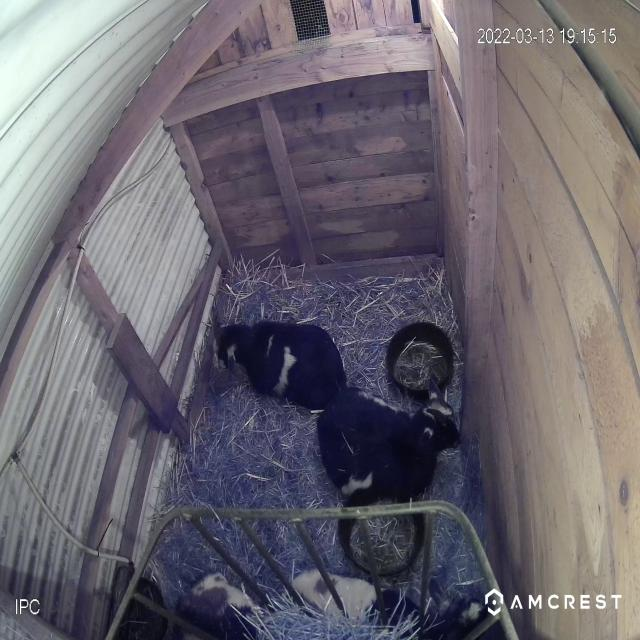goat: (306, 385, 469, 492), (203, 310, 352, 422)
